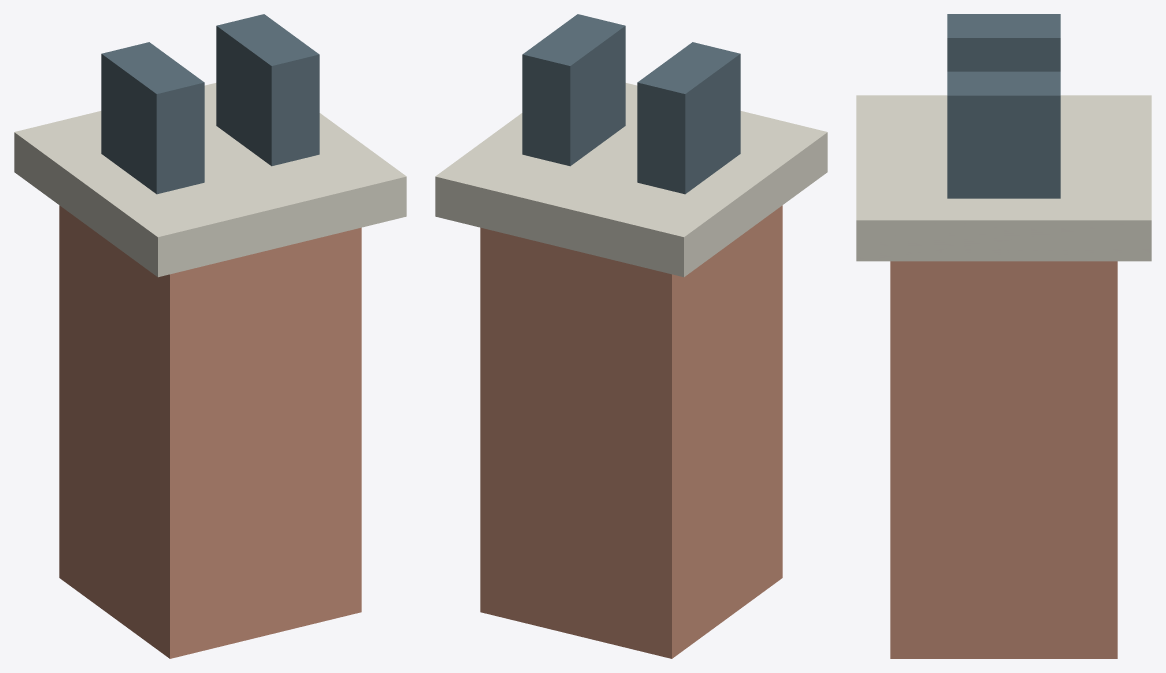
File: voxel-city-districts-chimney-stack-99717a58__24921.glb
3 renders of one model, left to right at view 1: azimuth 30°, elevation 25°; view 2: azimuth 150°, elevation 25°; view 3: azimuth 270°, elevation 25°, orthographic. The views are drawn at different scales.
Visible parts, largest first — view 1: chimney-stack-brick, chimney-stack-concrete, chimney-stack-dark; view 2: chimney-stack-brick, chimney-stack-concrete, chimney-stack-dark; view 3: chimney-stack-brick, chimney-stack-concrete, chimney-stack-dark.
Boxes of the visible parts, x1,y1,x2,y2 form: chimney-stack-brick: [59, 205, 361, 658]; chimney-stack-concrete: [14, 83, 406, 277]; chimney-stack-dark: [101, 14, 319, 194]; chimney-stack-brick: [480, 205, 782, 658]; chimney-stack-concrete: [435, 83, 827, 277]; chimney-stack-dark: [522, 14, 740, 194]; chimney-stack-brick: [890, 261, 1117, 658]; chimney-stack-concrete: [856, 95, 1151, 261]; chimney-stack-dark: [947, 14, 1060, 198].
Bounding box in the file's own units: 1.3 × 2.7 × 1.3.
